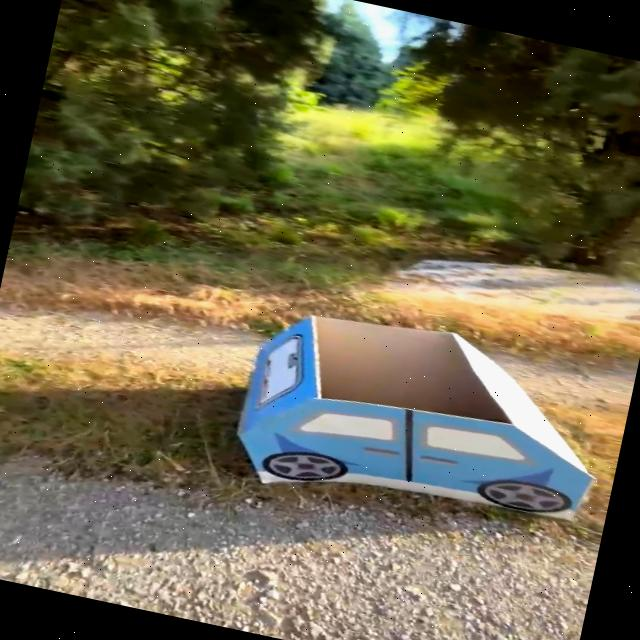blue_car: (193, 261, 637, 559)
